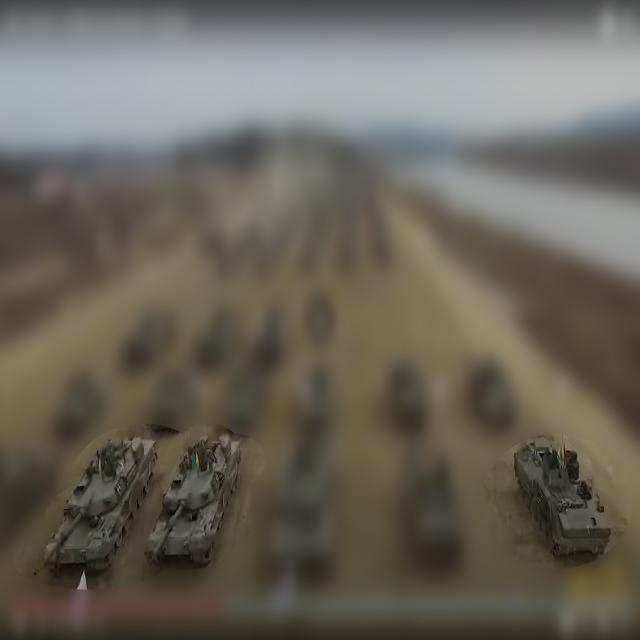tank: (43, 427, 156, 577), (499, 434, 626, 560), (149, 438, 245, 572)
